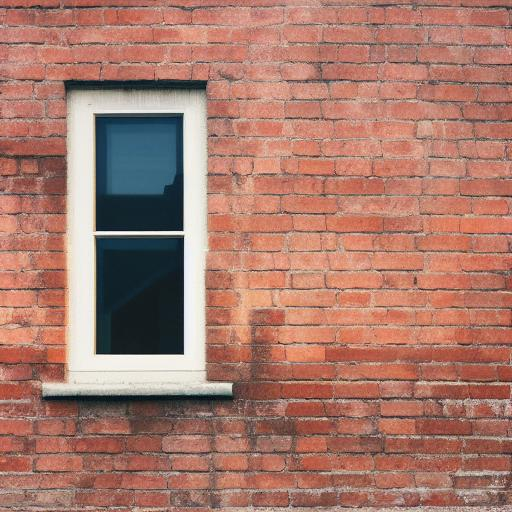Window: (44, 79, 236, 398)
